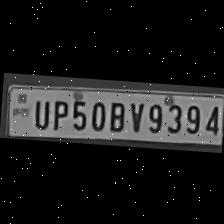0: (87, 96, 107, 130)
3: (163, 98, 183, 132)
4: (200, 100, 222, 134)
5: (66, 95, 88, 130)
9: (142, 98, 164, 132), (180, 100, 202, 133)
B: (105, 96, 127, 130)
P: (48, 94, 68, 128)
U: (28, 94, 50, 128)
V: (124, 97, 144, 132)
